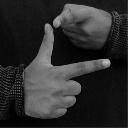hand: (22, 22, 111, 119), (52, 3, 112, 49)
